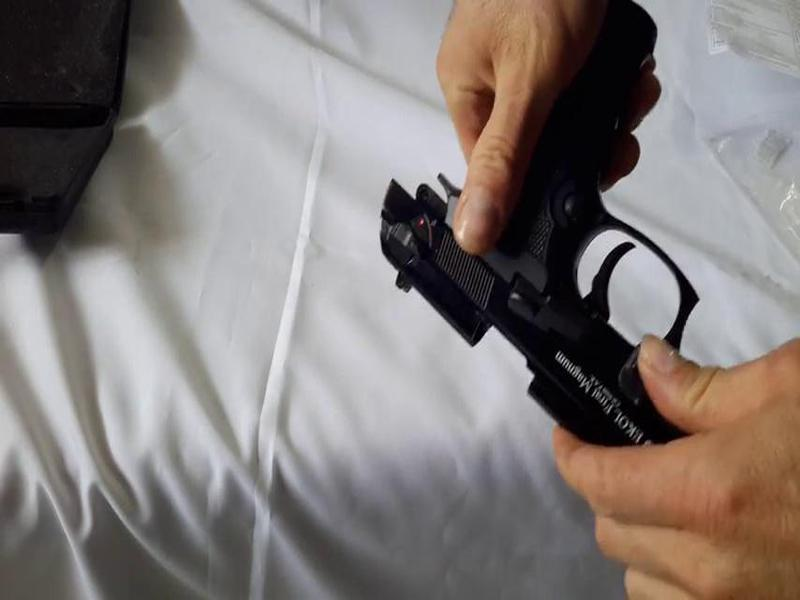Pistola: (371, 12, 744, 527)
